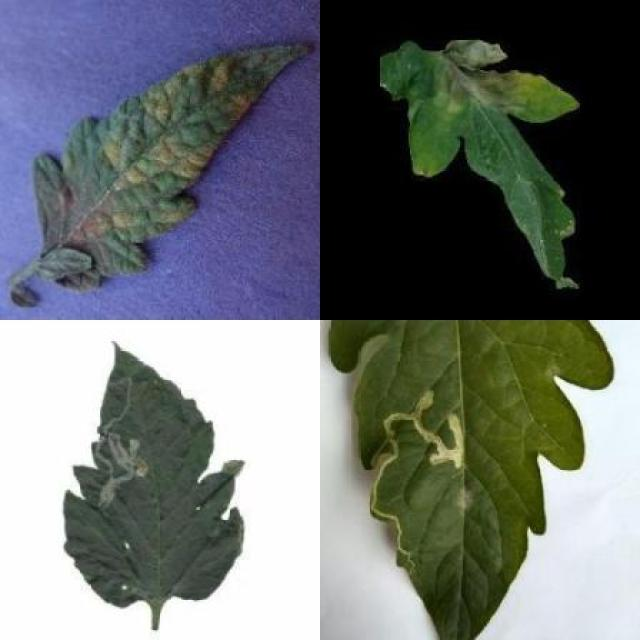Late Blight: (382, 38, 584, 292)
Leaf Miner: (329, 320, 616, 640), (63, 342, 248, 608)
Leaf Mold: (38, 39, 315, 291)
